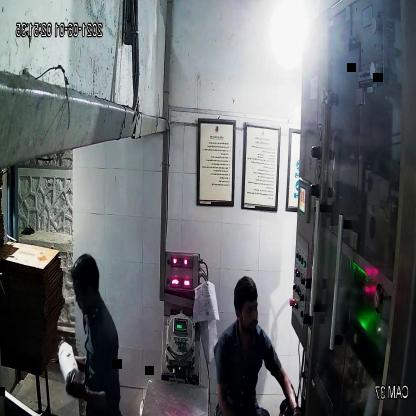no_goggles: (237, 297, 262, 319)
